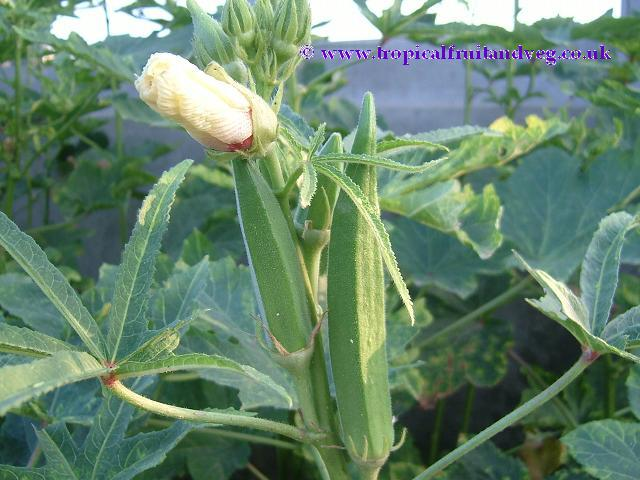okra: (326, 87, 397, 471), (229, 152, 319, 433)
